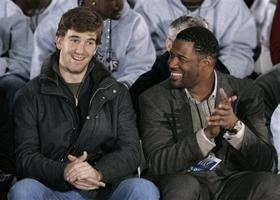person without safety: (138, 20, 280, 182), (14, 5, 138, 182)
